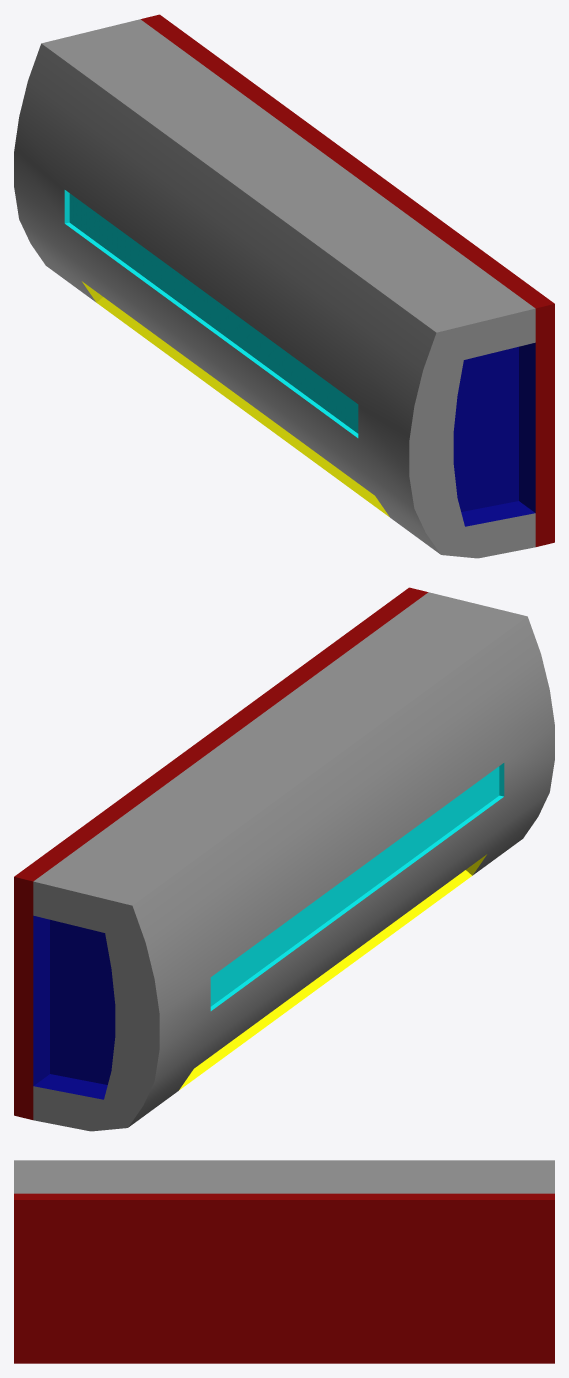
Rendered from Aire Acondicionado.FBX.
3 views of the same model, one above another, from view 1: azimuth 30°, elevation 25°; view 2: azimuth 150°, elevation 25°; view 3: azimuth 270°, elevation 25° (orthographic). The views are drawn at different scales.
Visible parts, largest first — view 1: Air; view 2: Air; view 3: Air.
Part boxes in pixels (x1,y1,x2,y2): Air: (14,14,554,558); Air: (14,587,554,1131); Air: (14,1160,554,1363).
Size of the model in its own units: 19.16 by 30 by 90.
